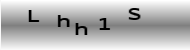1: (97, 17, 111, 31)
L: (27, 9, 41, 23)
S: (127, 6, 141, 21)
h: (56, 13, 71, 28), (74, 21, 88, 36)
